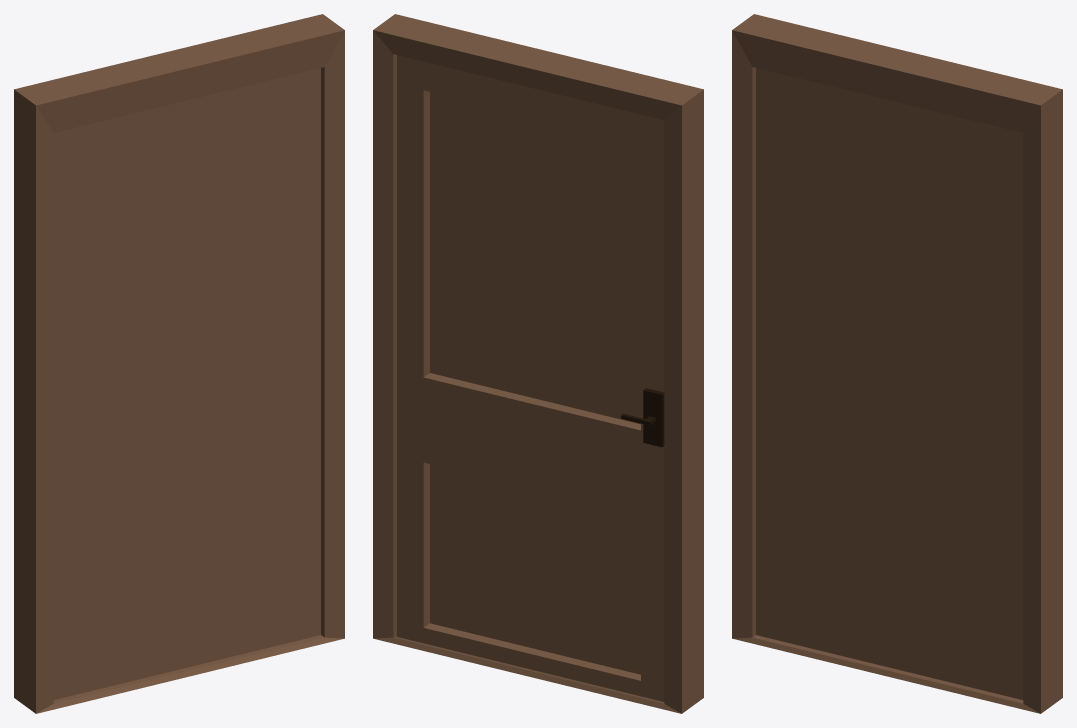
The model's file is mutfakkapisi.fbx.
3 views of the same model, side by side, from view 1: azimuth 30°, elevation 25°; view 2: azimuth 150°, elevation 25°; view 3: azimuth 330°, elevation 25° (orthographic).
Visible parts, largest first — view 1: kapi; view 2: kapi, kapikulp; view 3: kapi.
Part boxes in pixels (bbox=[...]): kapi: bbox=[14, 14, 344, 713]; kapi: bbox=[373, 14, 703, 713]; kapikulp: bbox=[643, 388, 664, 447]; kapi: bbox=[732, 14, 1062, 713].
Size of the model in its own units: 84.5 by 159 by 12.4.
Materials: 1 (1 with a texture image).
